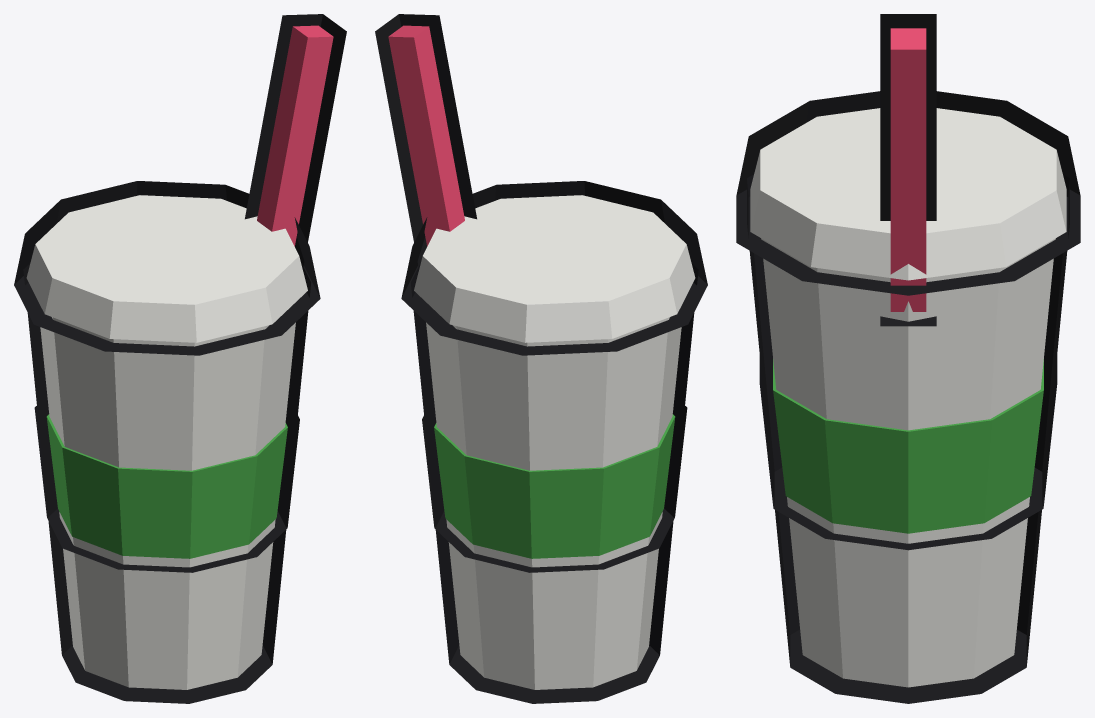
Rendered from Basura_Vaso.fbx.
The picture shows the model from 3 angles, left to right: view 1: azimuth 30°, elevation 25°; view 2: azimuth 150°, elevation 25°; view 3: azimuth 270°, elevation 25°; orthographic projection. The views are drawn at different scales.
Visible parts, largest first — view 1: Basura_Vaso; view 2: Basura_Vaso; view 3: Basura_Vaso.
Boxes of the visible parts, left/top/right/bottom form: Basura_Vaso: left=14, top=14, right=346, bottom=703; Basura_Vaso: left=375, top=14, right=707, bottom=703; Basura_Vaso: left=736, top=14, right=1080, bottom=703.
Size of the model in its own units: 0.2752 by 0.5283 by 0.232.
2 materials, 1 textured.
